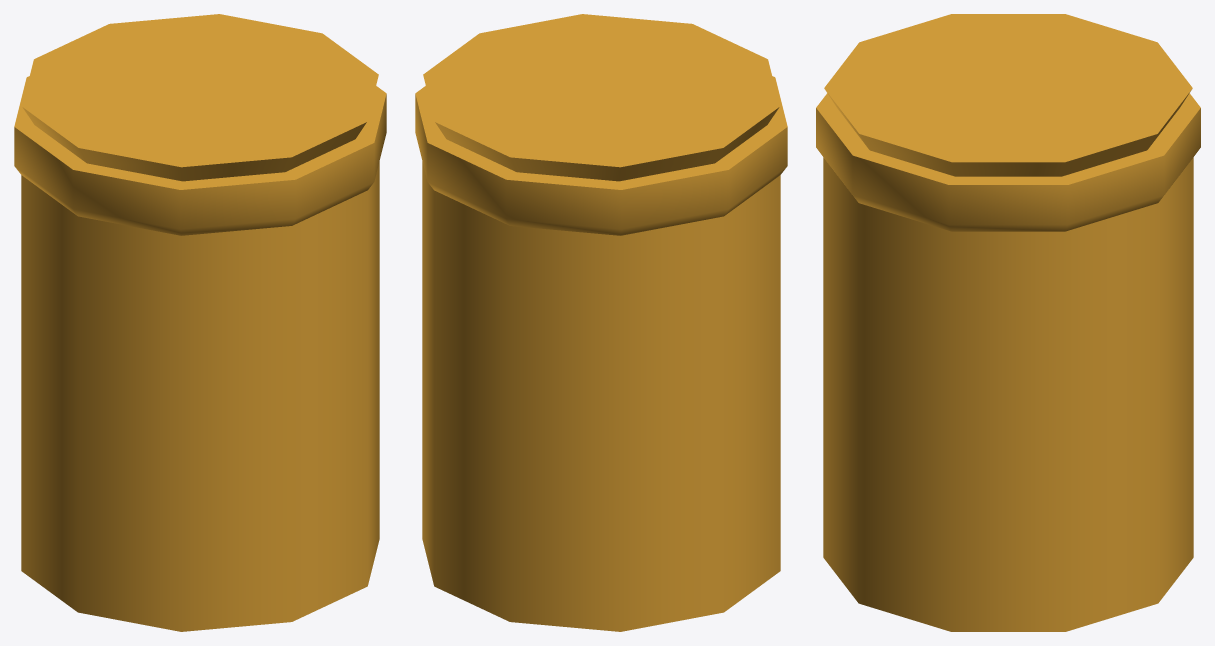
Rendered from tarro2.fbx.
3 views of the same model, side by side, from view 1: azimuth 30°, elevation 25°; view 2: azimuth 150°, elevation 25°; view 3: azimuth 270°, elevation 25° (orthographic).
Parts seen in each view (by area): view 1: Cylinder; view 2: Cylinder; view 3: Cylinder.
Part boxes in pixels (box(x1,y1,x2,y2)): Cylinder: box(14, 14, 386, 631); Cylinder: box(415, 14, 787, 631); Cylinder: box(816, 14, 1200, 631).
Size of the model in its own units: 3.75 by 5.3 by 3.94.
